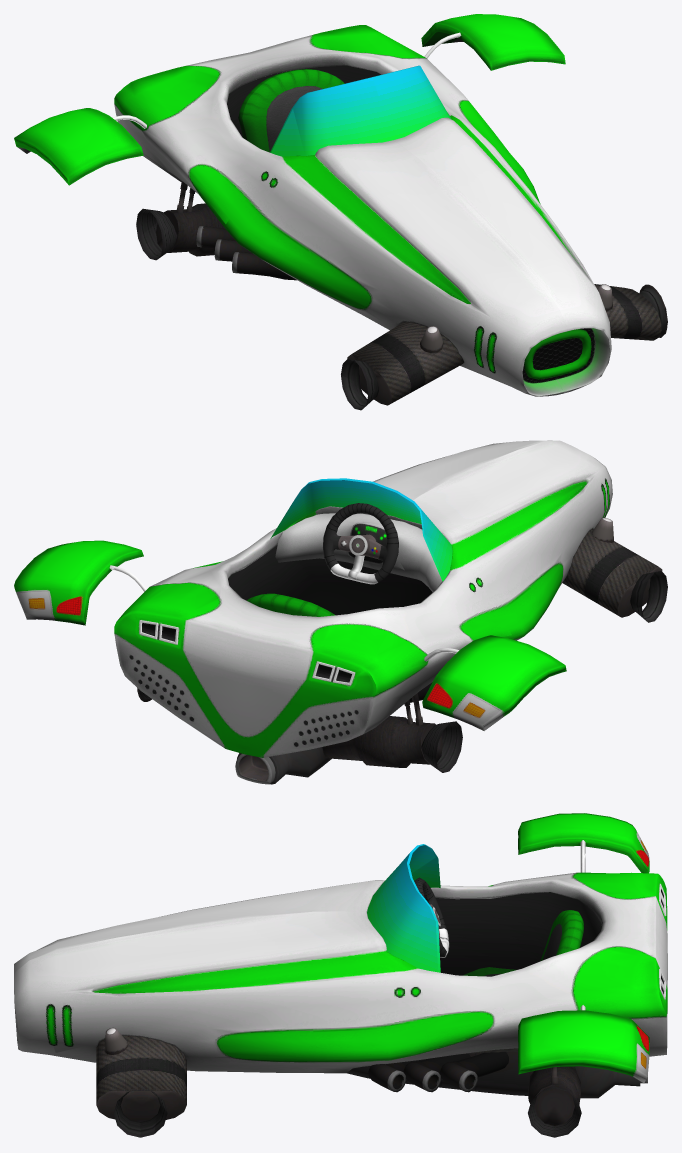
Rendered from ava_car.obj.
3 renders of one model, top to bottom at view 1: azimuth 30°, elevation 25°; view 2: azimuth 150°, elevation 25°; view 3: azimuth 270°, elevation 25°, orthographic.
Parts seen in each view (by area): view 1: car_chassis; view 2: car_chassis; view 3: car_chassis.
Part boxes in pixels (bbox=[...]): car_chassis: bbox=[14, 14, 667, 410]; car_chassis: bbox=[14, 440, 667, 784]; car_chassis: bbox=[14, 813, 667, 1137].
Size of the model in its own units: 4.67 by 1.96 by 5.24.
Materials: 3 (3 with a texture image).
